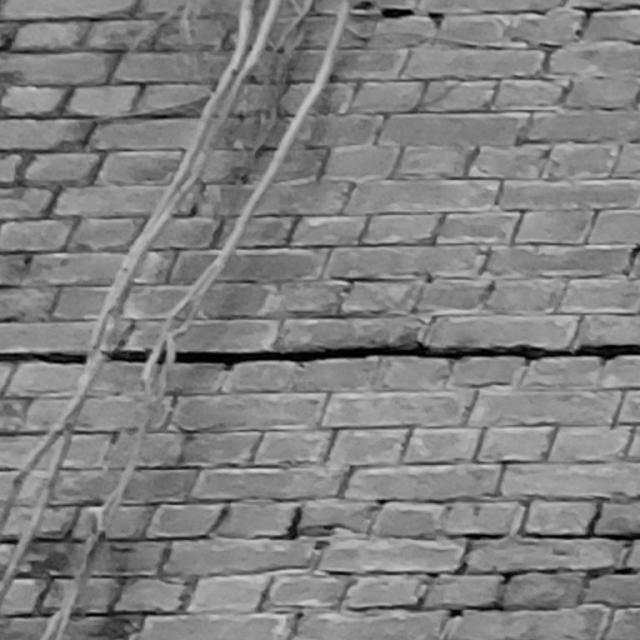crack: (1, 341, 640, 371)
